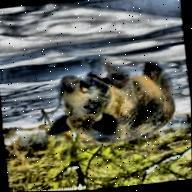boar: (39, 47, 192, 158)
